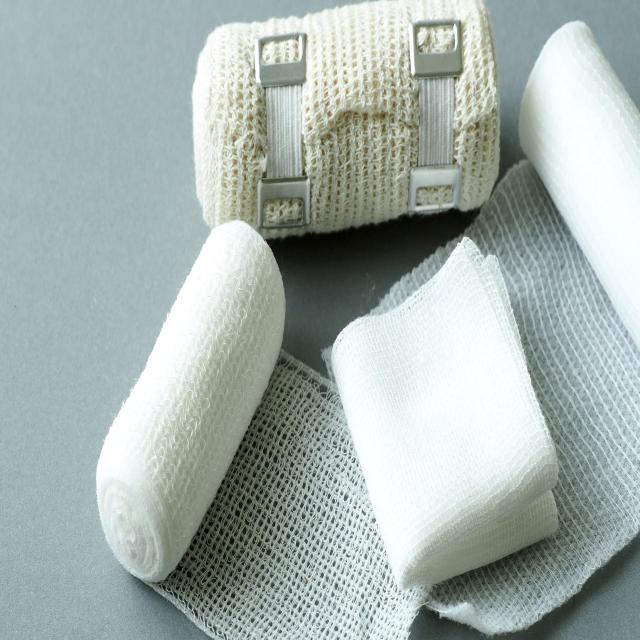B3: (180, 3, 522, 257), (86, 194, 298, 596), (497, 7, 640, 390)
